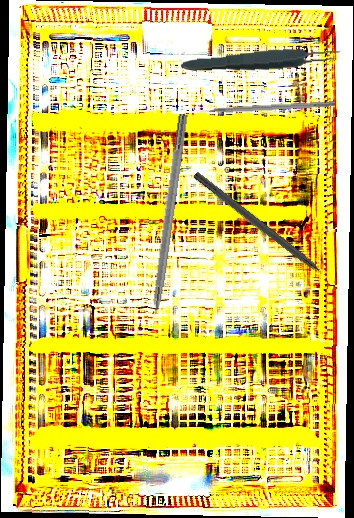Hook Surgical: (191, 170, 338, 289), (144, 113, 189, 340), (188, 100, 336, 115)
Tissue Forceps: (180, 44, 343, 77)
